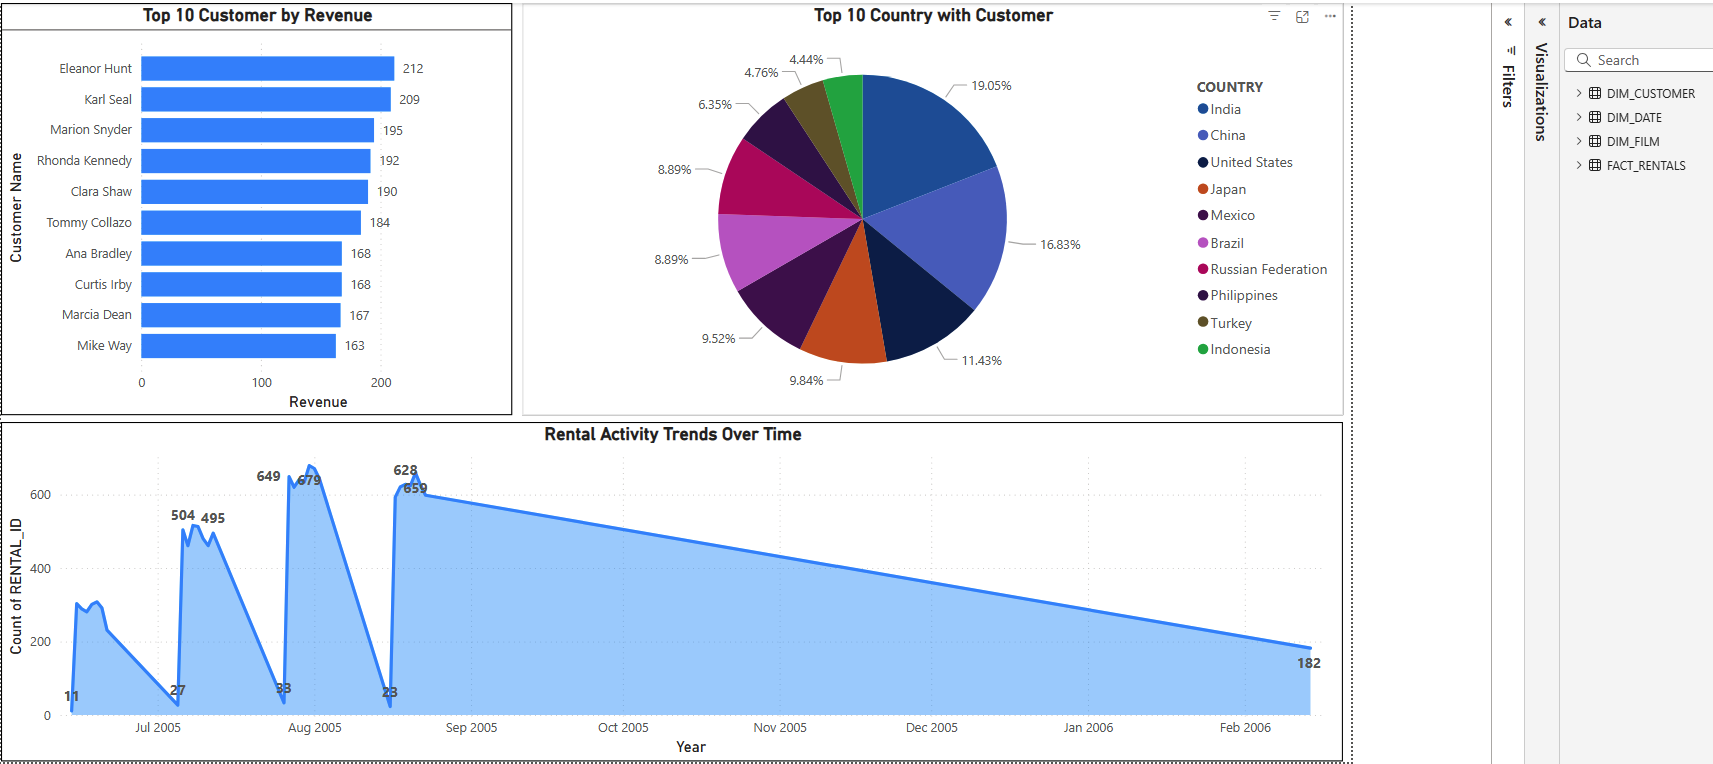

This screenshot's page, from the dashboard's own definition file:
{"tool":"powerbi","page":{"name":"Page 1","canvas":[1280,720],"ordinal":0},"visuals":[{"type":"clusteredBarChart","title":"Top 10 Customer by Revenue","fields":{"Category":["DIM_CUSTOMER.FULL_NAME"],"Y":["FACT_RENTALS.AMOUNT"]},"box":[0,0,485.3,391],"z":0},{"type":"lineChart","title":"Rental Activity Trends Over Time","fields":{"Y":["FACT_RENTALS.RENTAL_ID"],"Category":["FACT_RENTALS.RENTAL_DATE.Variation.Date Hierarchy.Year","FACT_RENTALS.RENTAL_DATE.Variation.Date Hierarchy.Month","FACT_RENTALS.RENTAL_DATE.Variation.Date Hierarchy.Day"]},"box":[0,397.8,1273.2,321.9],"z":1},{"type":"pieChart","title":"Top 10  Country with Customer","fields":{"Category":["DIM_CUSTOMER.COUNTRY"],"Y":["DIM_CUSTOMER.CUSTOMER_ID"]},"box":[494.1,0,779.1,391],"z":2}]}

Visuals, with their boxes in screenshot pixels (x1, y1, x2, y2):
"Top 10 Customer by Revenue" clusteredBarChart: (left=0, top=4, right=507, bottom=413)
"Rental Activity Trends Over Time" lineChart: (left=0, top=420, right=1330, bottom=756)
"Top 10  Country with Customer" pieChart: (left=516, top=4, right=1330, bottom=413)
